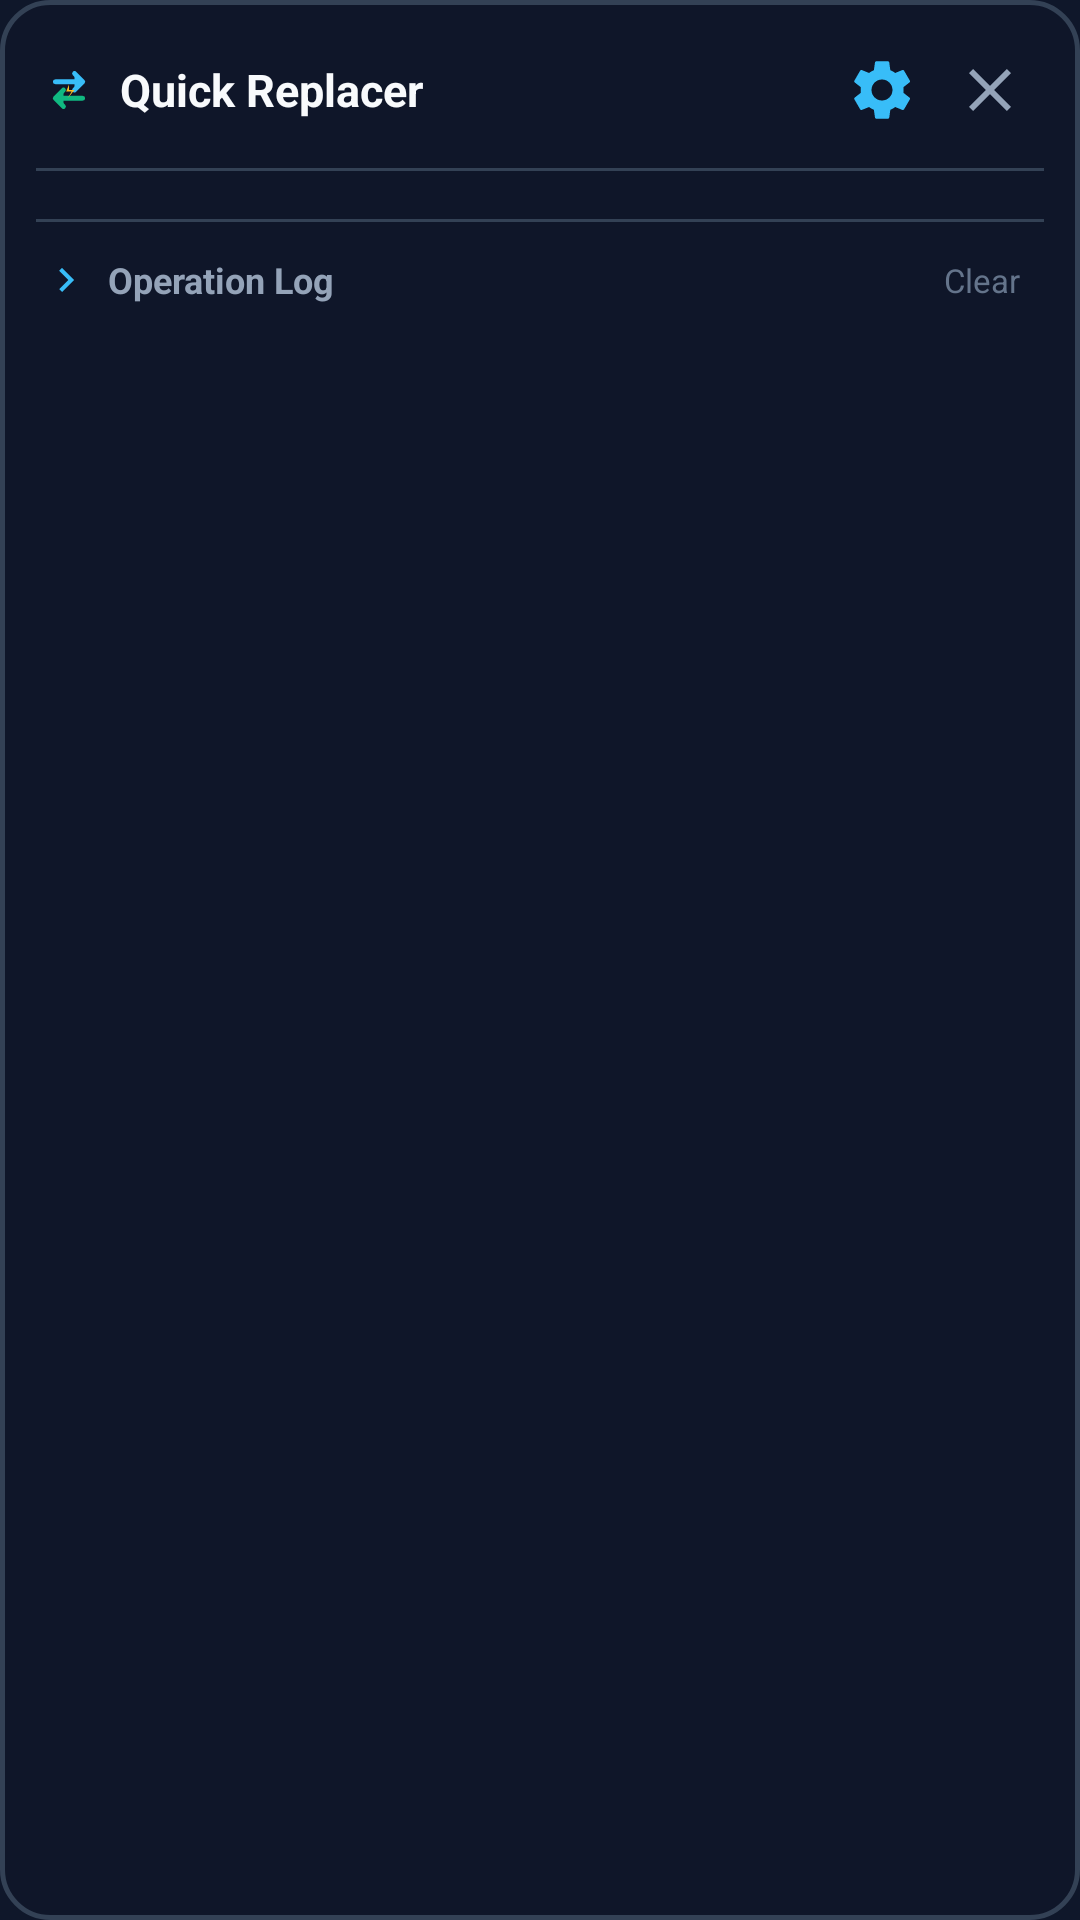

Locate icon controls on the screen. Image size 1080w x 1920h, boxes as box=[x1, y1, x2, y2].
chevron right: box=[59, 268, 74, 292]
Close: box=[969, 69, 1011, 111]
Settings: box=[854, 61, 910, 119]
